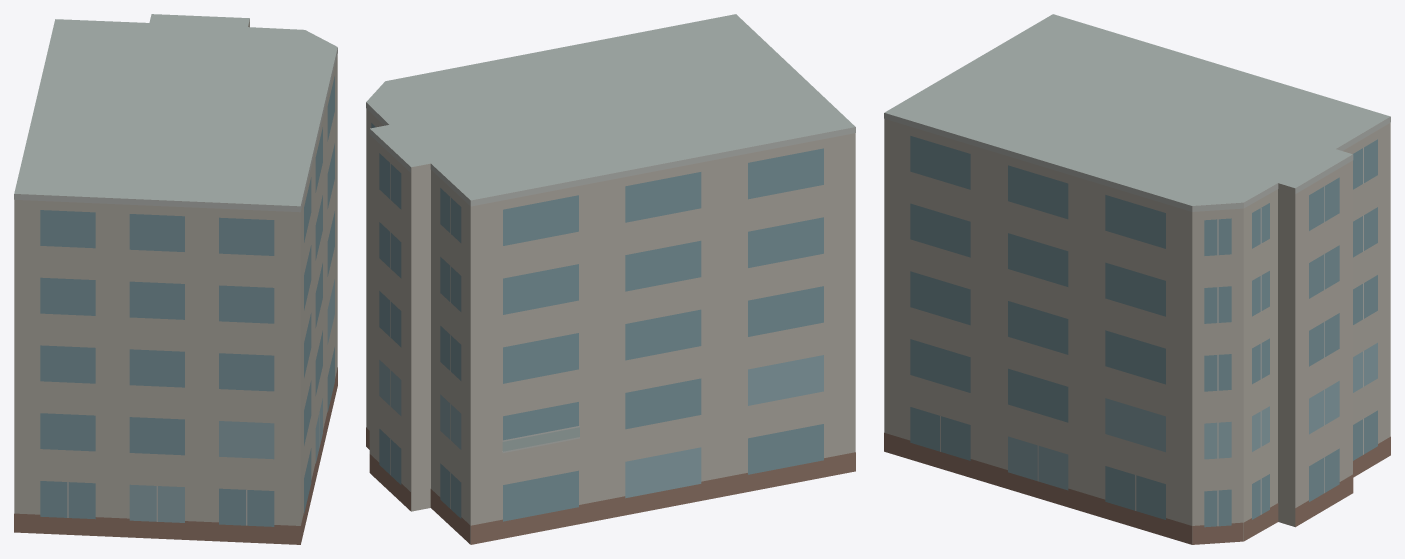
Rendered from survey-upis-32833746.glb.
3 views of the same model, side by side, from view 1: azimuth 30°, elevation 25°; view 2: azimuth 150°, elevation 25°; view 3: azimuth 270°, elevation 25° (orthographic).
Parts seen in each view (by area): view 1: survey-upis-32833746.tmp; view 2: survey-upis-32833746.tmp; view 3: survey-upis-32833746.tmp.
Part boxes in pixels (x1,y1,x2,y2): survey-upis-32833746.tmp: (14, 14, 337, 544); survey-upis-32833746.tmp: (366, 14, 855, 544); survey-upis-32833746.tmp: (884, 14, 1390, 544).
Size of the model in its own units: 16.9 by 13.9 by 18.84.
